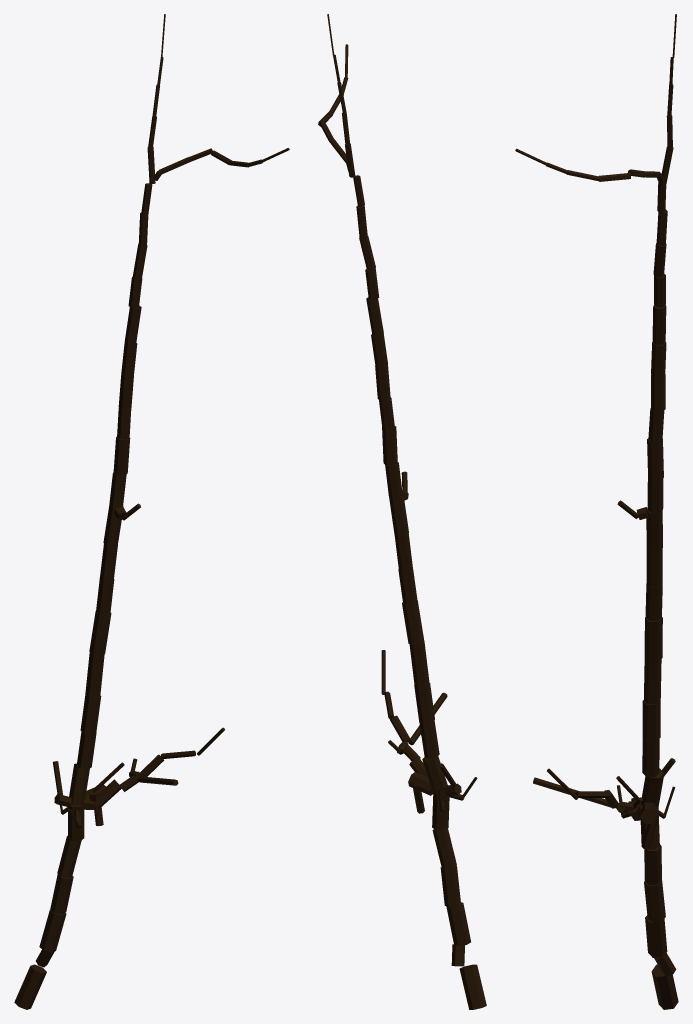
The model's file is tree_544_no_leaf.obj.
3 views of the same model, side by side, from view 1: azimuth 30°, elevation 25°; view 2: azimuth 150°, elevation 25°; view 3: azimuth 270°, elevation 25° (orthographic). The views are drawn at different scales.
Visible parts, largest first — view 1: TrunkAndBranches; view 2: TrunkAndBranches; view 3: TrunkAndBranches.
Boxes of the visible parts, box(x1,y1,x2,y2) form: TrunkAndBranches: box(14, 14, 289, 1009); TrunkAndBranches: box(318, 14, 486, 1009); TrunkAndBranches: box(515, 14, 678, 1009).
Bounding box in the file's own units: 1.49 × 6.6 × 0.9115.
